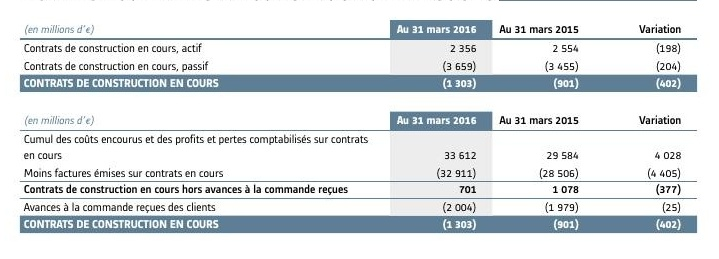table: (0, 0, 719, 259)
